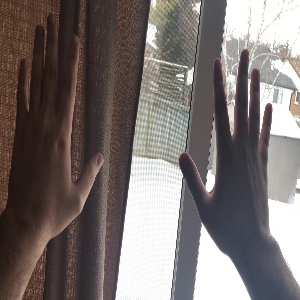hand: (7, 15, 103, 224), (180, 51, 269, 238)
